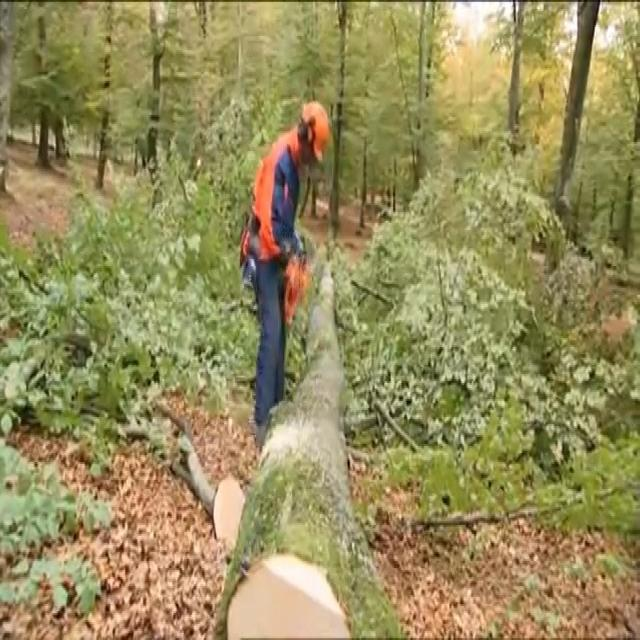Chainsaw: (284, 227, 324, 335)
